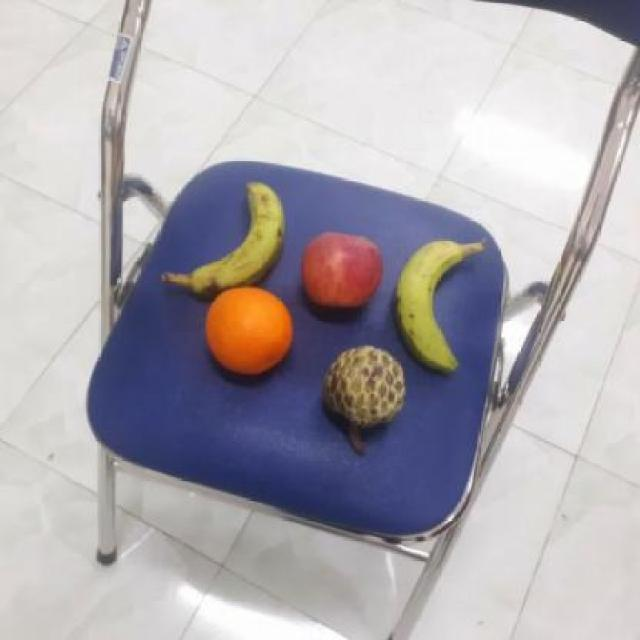apple: (296, 229, 382, 313)
banana: (173, 178, 292, 293), (391, 237, 489, 371)
oren: (199, 283, 290, 379)
sugar apple: (322, 343, 410, 429)
